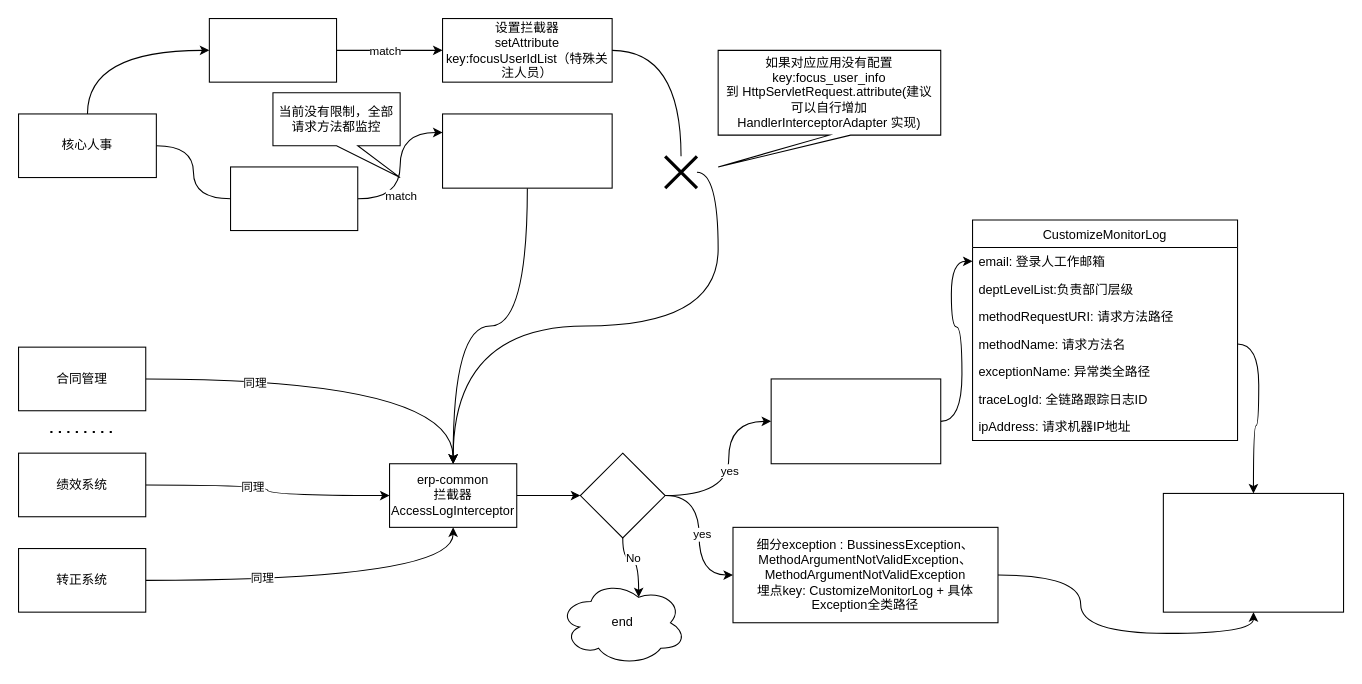
The diagram is 1362 pixels wide and 684 high, and some of its shapes have lost their labels. The shapes that lost their labels are listed below. From the top down, each one's centre as x and y in pixels, then its label:
At pixel 272 49: "apollo配置关注的特殊人员".
At pixel 526 150: "handler.getMethod.getName".
At pixel 293 198: "关注的方法设置报错提醒apollo配置(就是自己定义的方法)".
At pixel 855 421: "总exception 埋点key: CustomizeMonitorLog".
At pixel 622 495: "判断是否异常".
At pixel 1253 552: "将Cat配置的埋点进行xray告警规则配置".
